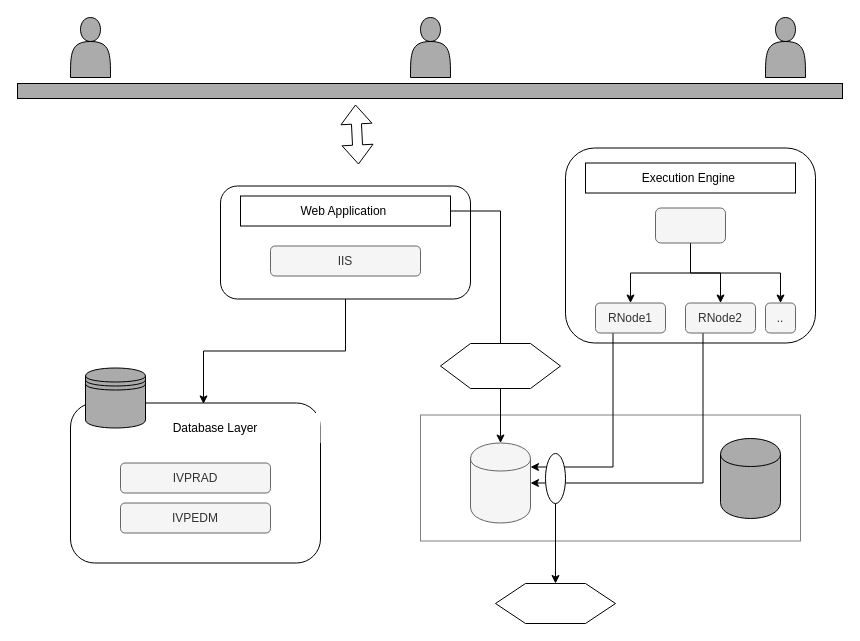
Image size: 860x641. Some labels were removed from this diagram. Here are the shapes that lost their labels. From the top down, the centre of each, then its label:
At point 690,225: "RNM".
At point 500,365: "Register itself on port 10000".
At point 500,482: "Push Service".
At point 750,478: "Redis".
At point 555,603: "Pushes Data on port 10001".
